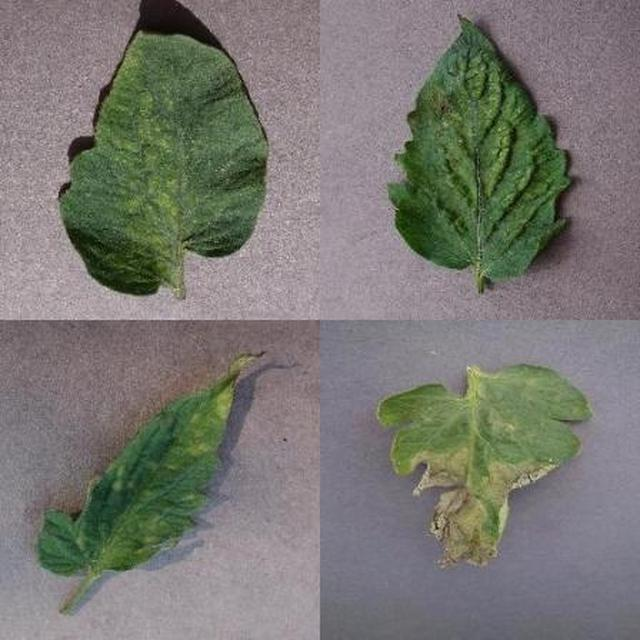Spider Mites Leaf: (210, 207, 640, 640)
